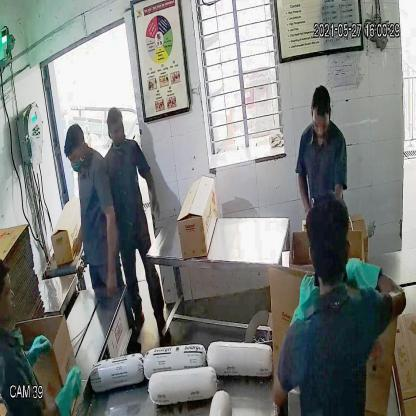no_goggles: (310, 112, 332, 136)
